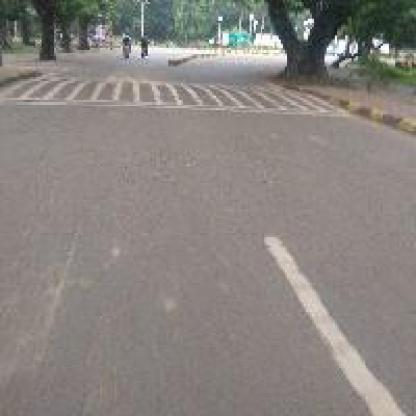Speed Bump: (0, 76, 323, 117)
